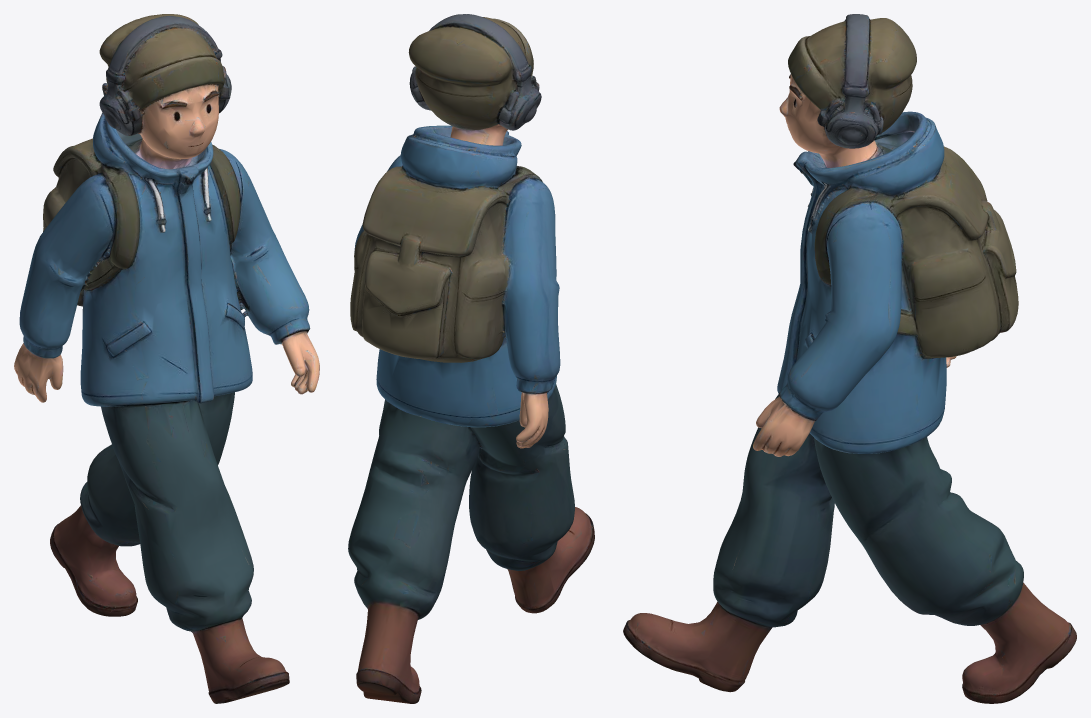
Rendered from getkong-ped4.glb.
3 renders of one model, left to right at view 1: azimuth 30°, elevation 25°; view 2: azimuth 150°, elevation 25°; view 3: azimuth 270°, elevation 25°, orthographic. The views are drawn at different scales.
Parts seen in each view (by area): view 1: Mesh_0; view 2: Mesh_0; view 3: Mesh_0.
Boxes of the visible parts, box(x1,y1,x2,y2) form: Mesh_0: box(14, 14, 319, 703); Mesh_0: box(348, 14, 594, 703); Mesh_0: box(623, 14, 1076, 703).
Size of the model in its own units: 0.7265 by 1.9 by 1.17.
1 material, 1 textured.
